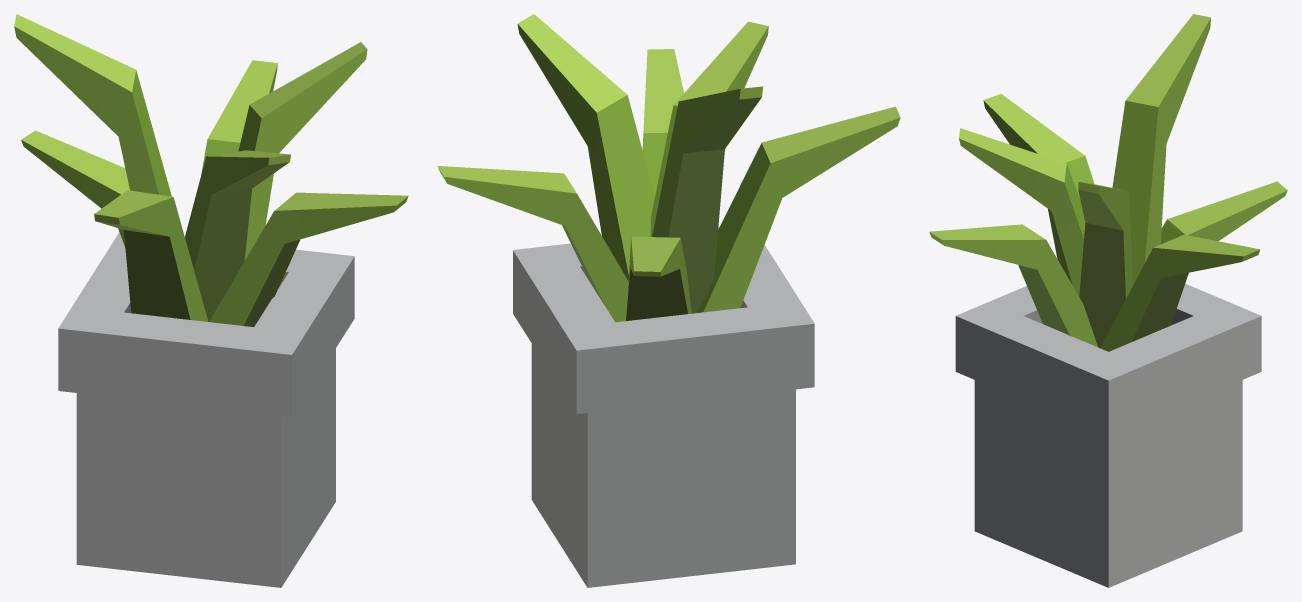
The model's file is SI_Prop_Plant_12_2.fbx.
3 renders of one model, left to right at view 1: azimuth 30°, elevation 25°; view 2: azimuth 150°, elevation 25°; view 3: azimuth 270°, elevation 25°, orthographic. The views are drawn at different scales.
Visible parts, largest first — view 1: SI_Prop_Plant_12_2; view 2: SI_Prop_Plant_12_2; view 3: SI_Prop_Plant_12_2.
Boxes of the visible parts, x1=… form: SI_Prop_Plant_12_2: x1=14, y1=14, x2=408, y2=587; SI_Prop_Plant_12_2: x1=437, y1=14, x2=900, y2=587; SI_Prop_Plant_12_2: x1=929, y1=14, x2=1287, y2=587.
Bounding box in the file's own units: 116 × 176 × 126.
